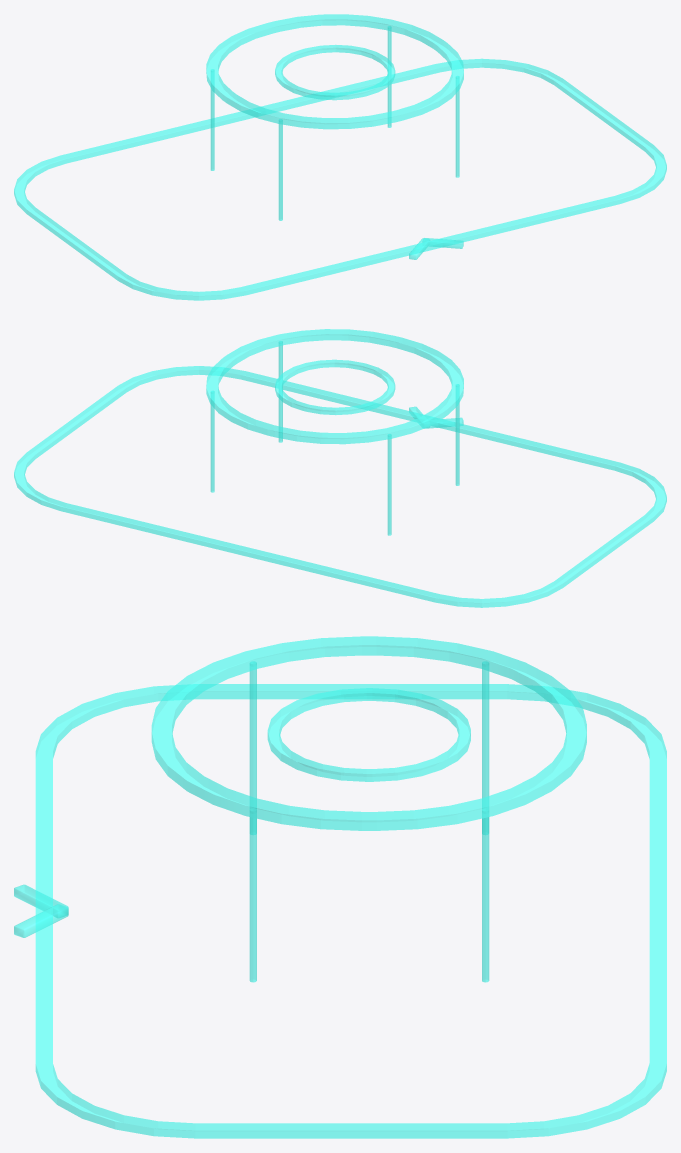
Rendered from PlacementGhostPreview_Ceiling.fbx.
The picture shows the model from 3 angles, top to bottom: view 1: azimuth 30°, elevation 25°; view 2: azimuth 150°, elevation 25°; view 3: azimuth 270°, elevation 25°; orthographic projection. The views are drawn at different scales.
Visible parts, largest first — view 1: PlacementGhostPreview_Ceiling_Mesh; view 2: PlacementGhostPreview_Ceiling_Mesh; view 3: PlacementGhostPreview_Ceiling_Mesh.
Part boxes in pixels (left/top/right/bottom): PlacementGhostPreview_Ceiling_Mesh: left=14, top=14, right=666, bottom=300; PlacementGhostPreview_Ceiling_Mesh: left=14, top=329, right=666, bottom=607; PlacementGhostPreview_Ceiling_Mesh: left=14, top=636, right=666, bottom=1138.
Bounding box in the file's own units: 72.8 × 14.25 × 44.98.
